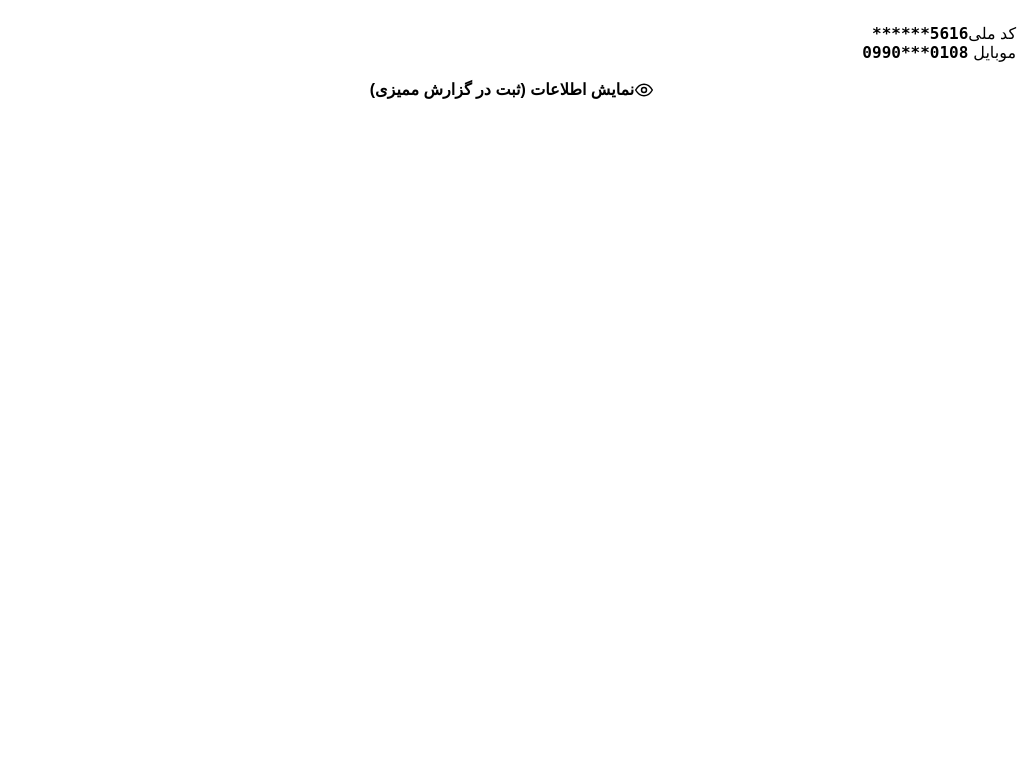
Test: PII is masked by default › shows masked value, requires an audited confirmation to reveal
The image size is (1024, 768).
Later steps or results of the test are not shown.
Expected: the element with test id "pii-national" reads "******5616", top-left (872, 24), bottom-right (968, 43)
Click the button "نمایش اطلاعات (ثبت در گزارش ممیزی)": [512, 90] box top-left (8, 78), bottom-right (1016, 102)
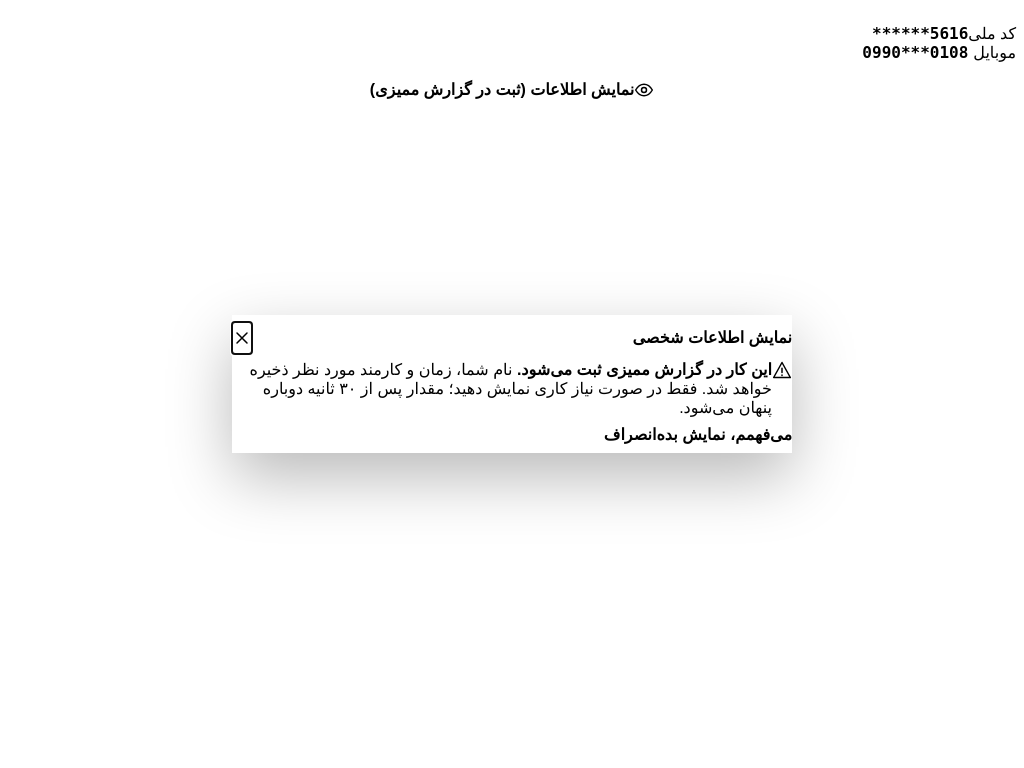
Result: the text "این کار در گزارش ممیزی ثبت می‌شود." is shown at top-left (517, 361), bottom-right (772, 378)
